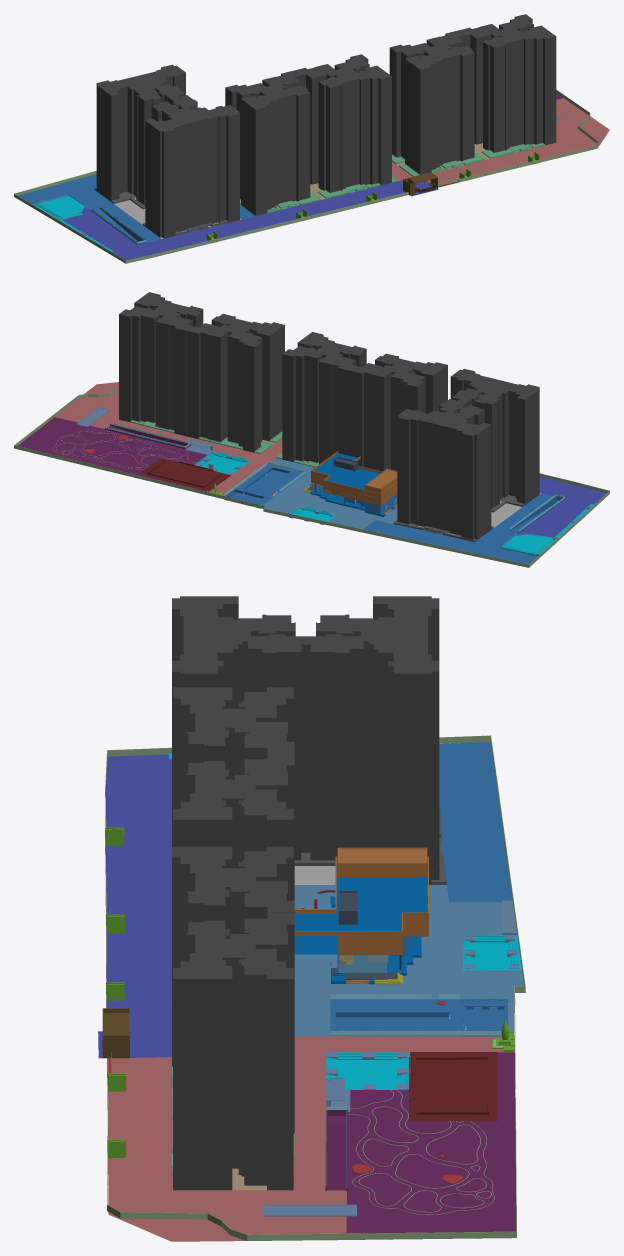
3 views of the same model, one above another, from view 1: azimuth 30°, elevation 25°; view 2: azimuth 150°, elevation 25°; view 3: azimuth 270°, elevation 25° (orthographic). The views are drawn at different scales.
Parts seen in each view (by area): view 1: TC_GF_BaseFloor, TA_Base_floor, TA1_Floor_Base, TB_Floor_Base, TB1_GF_Base_Floor, TC1_GF_BaseFloor, grnd03, grnd02, grnd04, BoundryWall, BoundryWall1, Tower_base_A (+6 smaller); view 2: TA1_Floor_Base, TC1_GF_BaseFloor, TA_Base_floor, TB_Floor_Base, TB1_GF_Base_Floor, TC_GF_BaseFloor, grnd01, grnd04, grnd02, BoundryWall, grnd05, grnd03 (+12 smaller); view 3: TC1_GF_BaseFloor, TA_Base_floor, grnd02, grnd01, grnd03, TC_GF_BaseFloor, grnd05, TB_Floor_Base, TA1_Floor_Base, grnd04, TB1_GF_Base_Floor, cbh_floors (+11 smaller).
Part boxes in pixels (x1=…): TC_GF_BaseFloor: x1=145, y1=95, x2=239, y2=238; TA_Base_floor: x1=458, y1=14, x2=556, y2=152; TA1_Floor_Base: x1=389, y1=30, x2=474, y2=174; TB_Floor_Base: x1=293, y1=54, x2=391, y2=192; TB1_GF_Base_Floor: x1=225, y1=71, x2=310, y2=215; TC1_GF_BaseFloor: x1=96, y1=64, x2=185, y2=205; grnd03: x1=62, y1=180, x2=438, y2=260; grnd02: x1=392, y1=98, x2=609, y2=187; grnd04: x1=18, y1=174, x2=255, y2=244; BoundryWall: x1=14, y1=90, x2=598, y2=263; BoundryWall1: x1=125, y1=192, x2=408, y2=263; Tower_base_A: x1=392, y1=143, x2=544, y2=176; TA1_Floor_Base: x1=186, y1=314, x2=284, y2=452; TC1_GF_BaseFloor: x1=397, y1=399, x2=491, y2=540; TA_Base_floor: x1=119, y1=292, x2=203, y2=436; TB_Floor_Base: x1=282, y1=332, x2=366, y2=464; TB1_GF_Base_Floor: x1=349, y1=353, x2=447, y2=471; TC_GF_BaseFloor: x1=450, y1=368, x2=539, y2=508; grnd01: x1=18, y1=417, x2=209, y2=491; grnd04: x1=363, y1=493, x2=565, y2=567; grnd02: x1=55, y1=382, x2=282, y2=495; BoundryWall: x1=14, y1=387, x2=609, y2=567; grnd05: x1=253, y1=458, x2=397, y2=528; grnd03: x1=516, y1=476, x2=606, y2=537; TC1_GF_BaseFloor: x1=305, y1=596, x2=439, y2=884; TA_Base_floor: x1=173, y1=913, x2=294, y2=1190; grnd02: x1=107, y1=1036, x2=514, y2=1241; grnd01: x1=325, y1=1052, x2=516, y2=1239; grnd03: x1=98, y1=754, x2=171, y2=1058; TC_GF_BaseFloor: x1=172, y1=596, x2=305, y2=860; grnd05: x1=294, y1=885, x2=525, y2=1036; TB_Floor_Base: x1=173, y1=753, x2=294, y2=900; TA1_Floor_Base: x1=172, y1=846, x2=294, y2=1066; grnd04: x1=439, y1=742, x2=512, y2=902; TB1_GF_Base_Floor: x1=173, y1=687, x2=294, y2=808; cbh_floors: x1=294, y1=861, x2=427, y2=984.
Bounding box in the file's own units: 25640 × 5448 × 9268.
